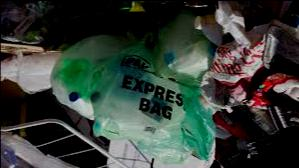Plastic: (103, 38, 210, 161)
